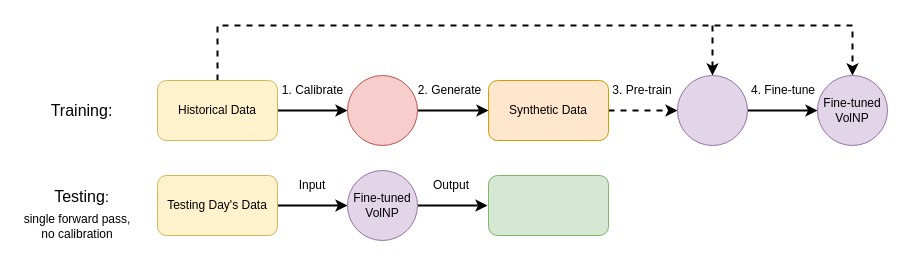
This 905x258 diagram has some shape labels left out. The centre of each missing label's shape, as x and y in pixels:
"Implied Volatility Surface" belongs at point (548, 205).
"Pre-trained VolNP" belongs at point (712, 110).
"SABR Model" belongs at point (382, 110).
